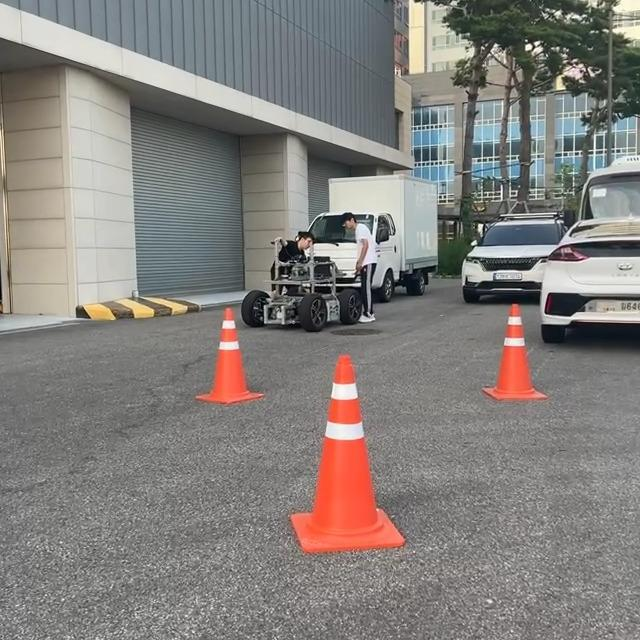fallen_object: (237, 336, 429, 547), (455, 247, 576, 426), (160, 302, 301, 423)
